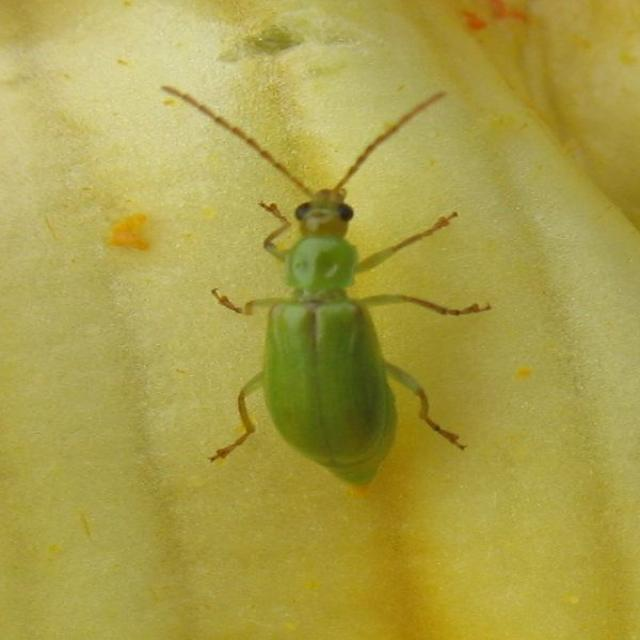gusano_gris: (163, 84, 490, 489)
